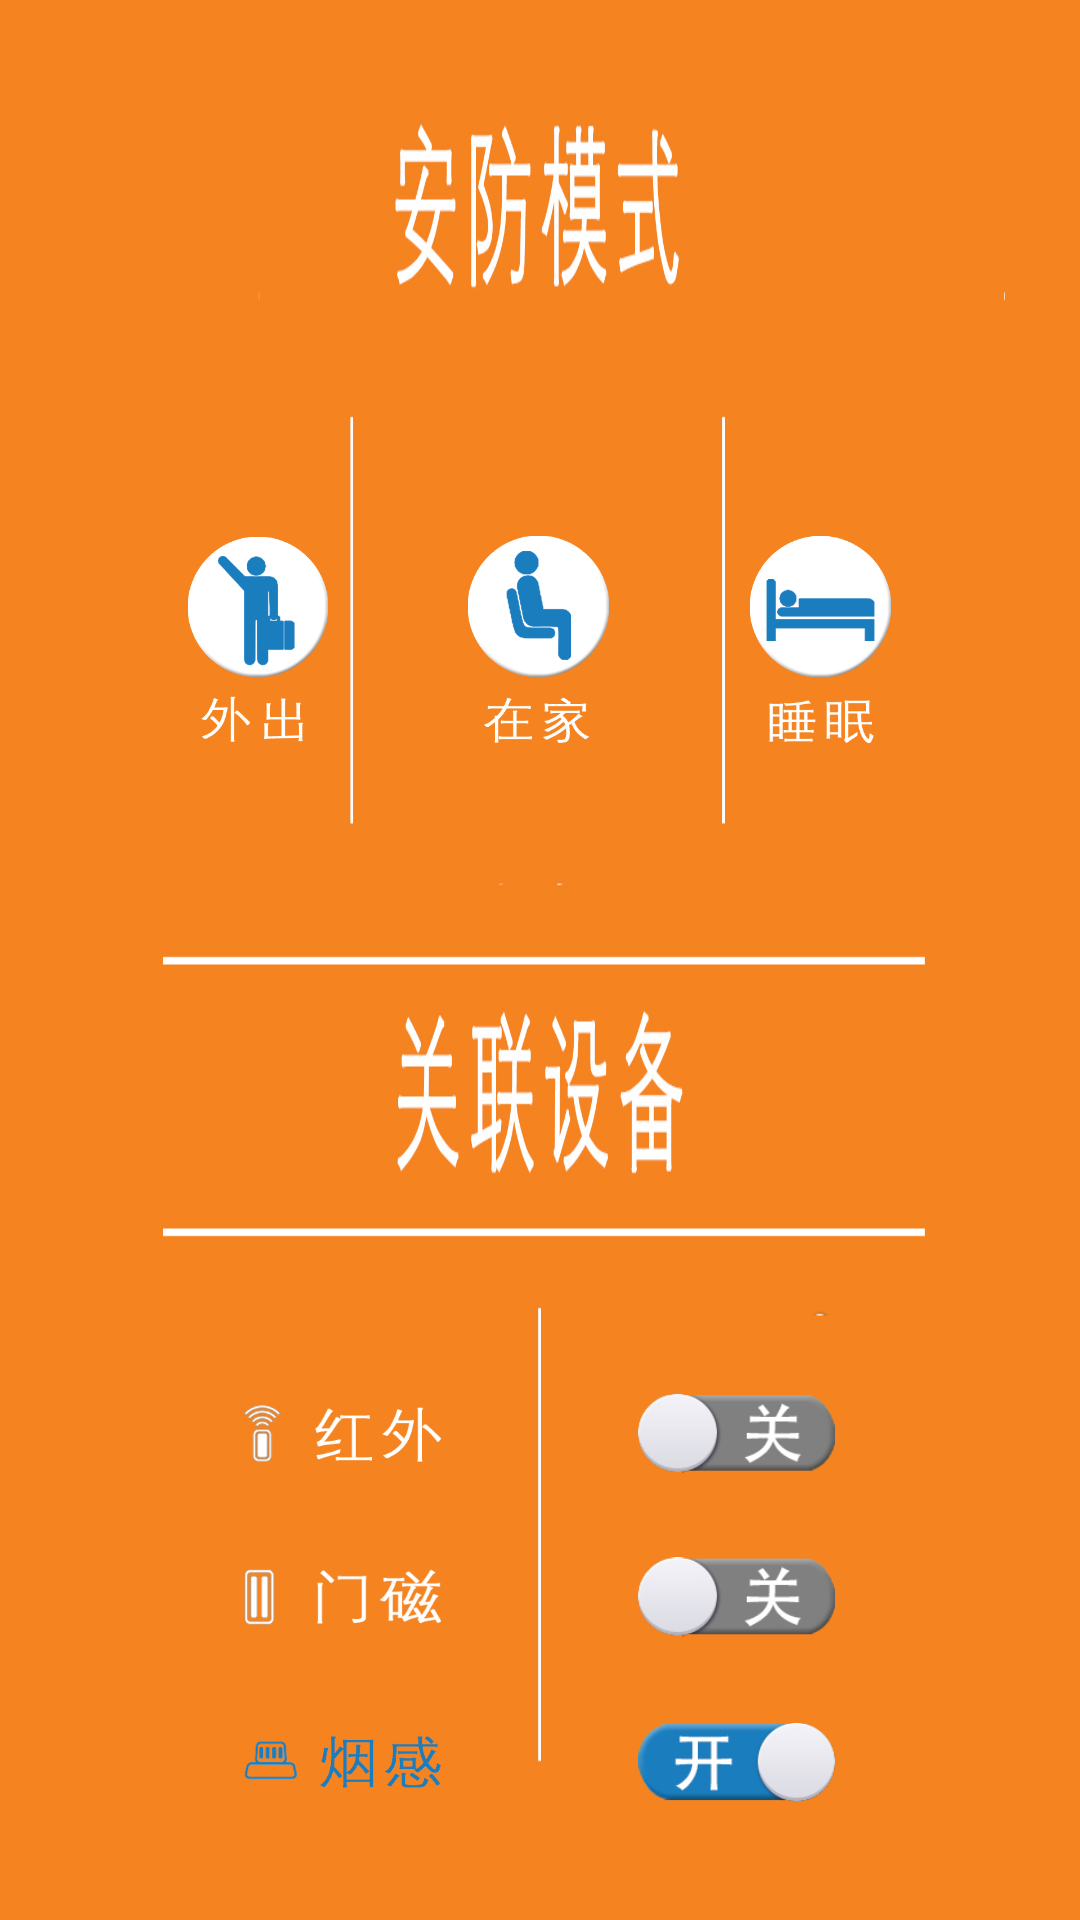

Icons on this 1080px×1920px Android screen, each with its box as (x1, y1, x2, y2):
security sleep: (750, 536, 891, 743)
security switch: (638, 1394, 835, 1473), (638, 1557, 835, 1637), (638, 1723, 835, 1801)
